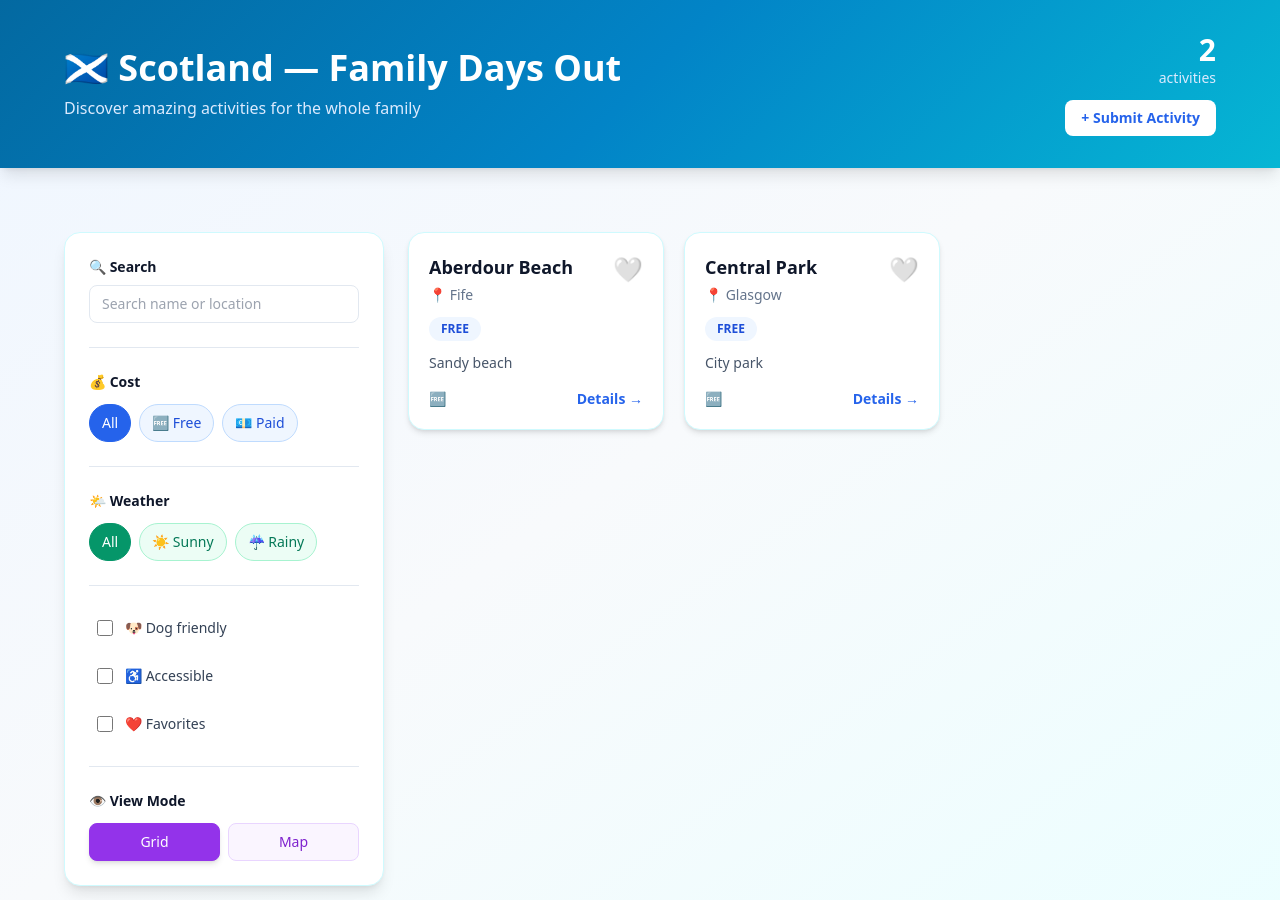
Test case: ScotlandDaysOut Page › filters activities by search query
The image size is (1280, 900).
Expected: the heading "Aberdour Beach" is shown, [429,255,573,279]
Type "beach" into the field with placeholder "Search name or location" at (224,304), box [89,285,359,323]
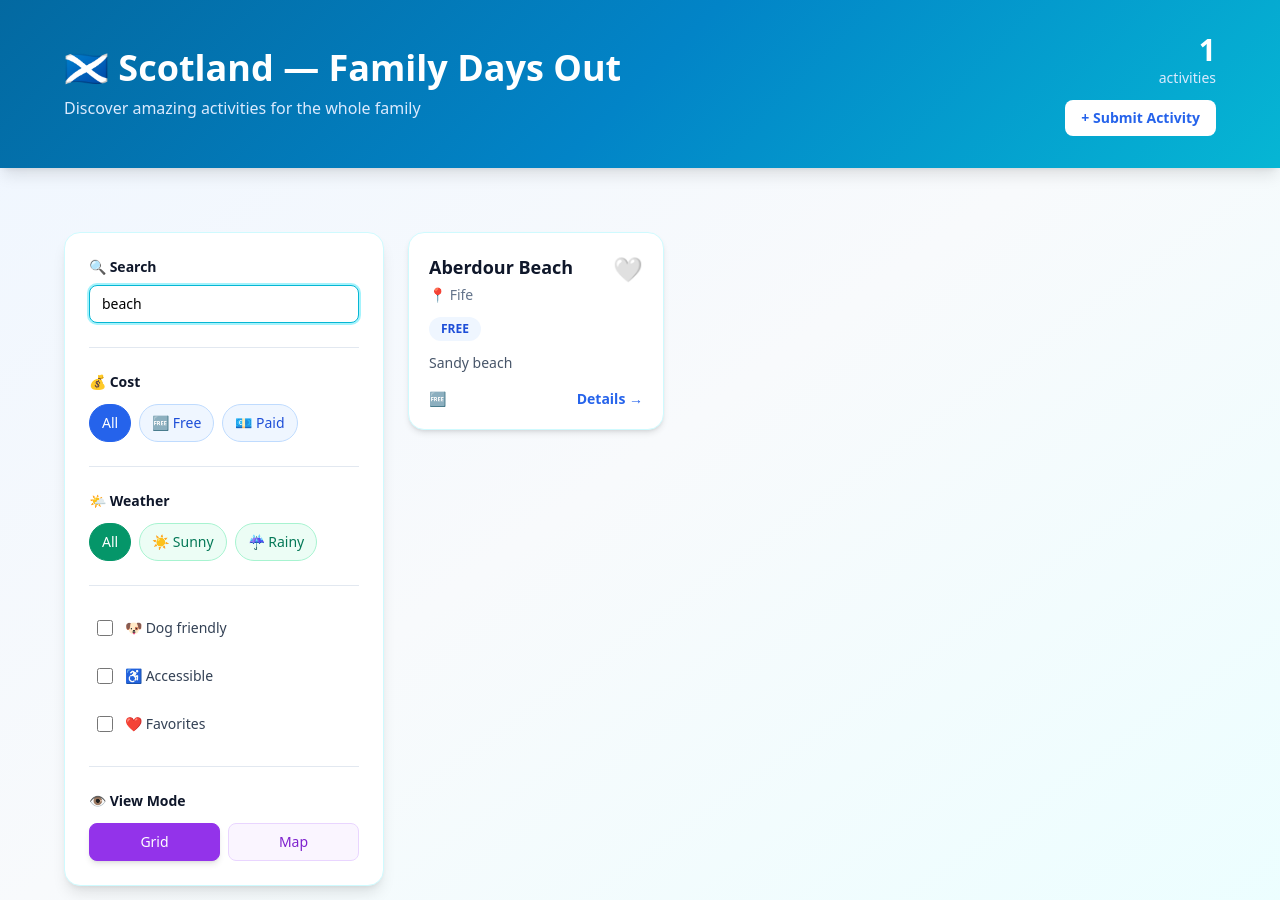
Expected: the heading "Aberdour Beach" is shown, [429,255,573,279]
Now the heading "Central Park" is gone
